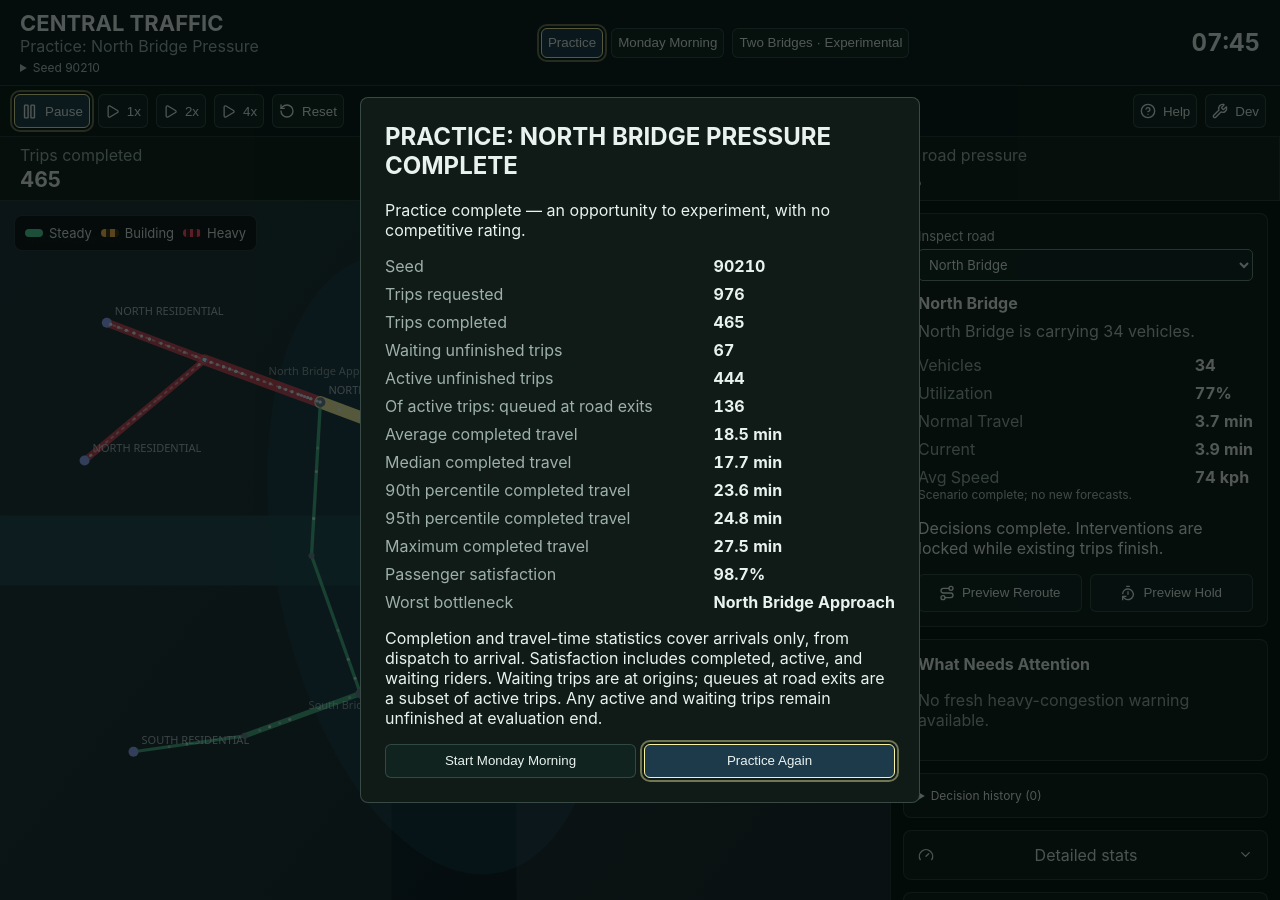
Scenario: desktop focus and semantic interactions › results receive focus, block background playback and provide keyboard retry
The image size is (1280, 900).
expect the element showing "Pause 1x 2x 4x Reset Help Dev" is shown: met, box [0,86,1279,137]
Press Enter in the button "Practice Again", box [644,744,895,778]
Click the button "Practice Again": (770, 761) [644,744,895,778]
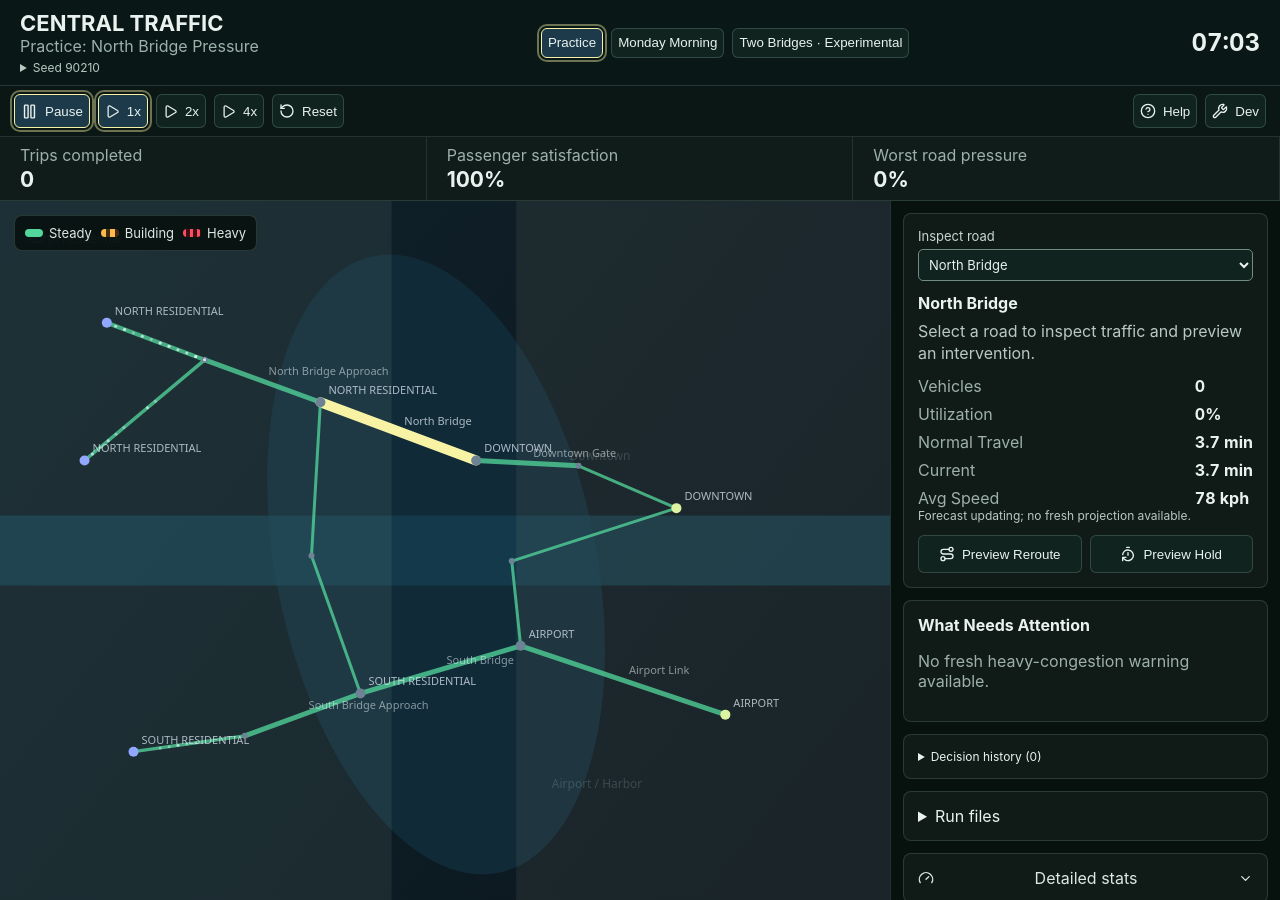
expect the dialog is gone: met
expect the button "Start Monday Morning" is gone: met
